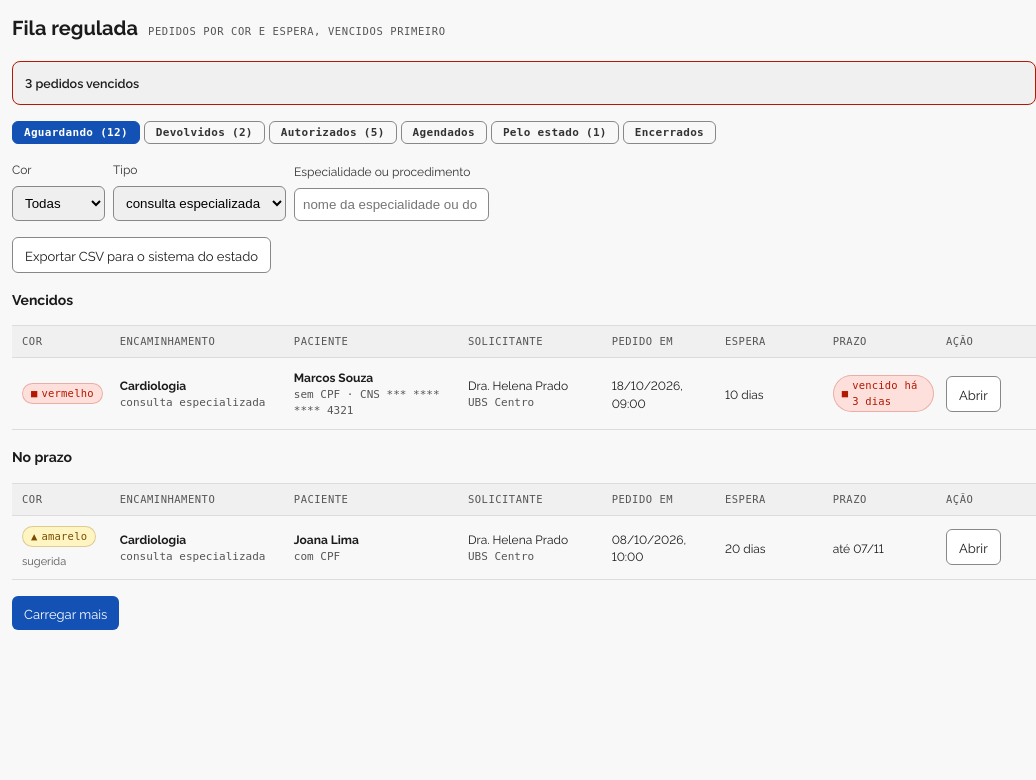
RegulationQueue › Carregar mais usa o cursor da lista e a página nova entra em No prazo
Check: the element "No prazo" is shown, box [12,446,1035,580]
Click the button "Carregar mais" at x=66, y=613, box [12,596,119,630]
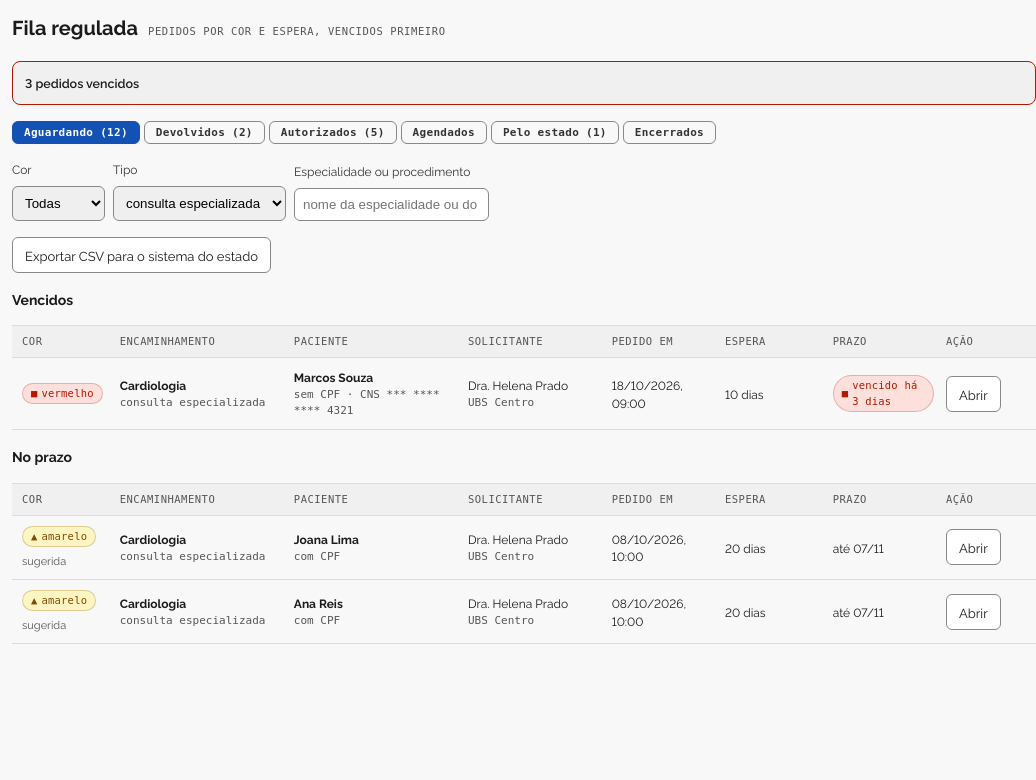
Check: the row "Ana Reis" is shown, box [12,580,1035,644]
Check: the button "Carregar mais" is gone
